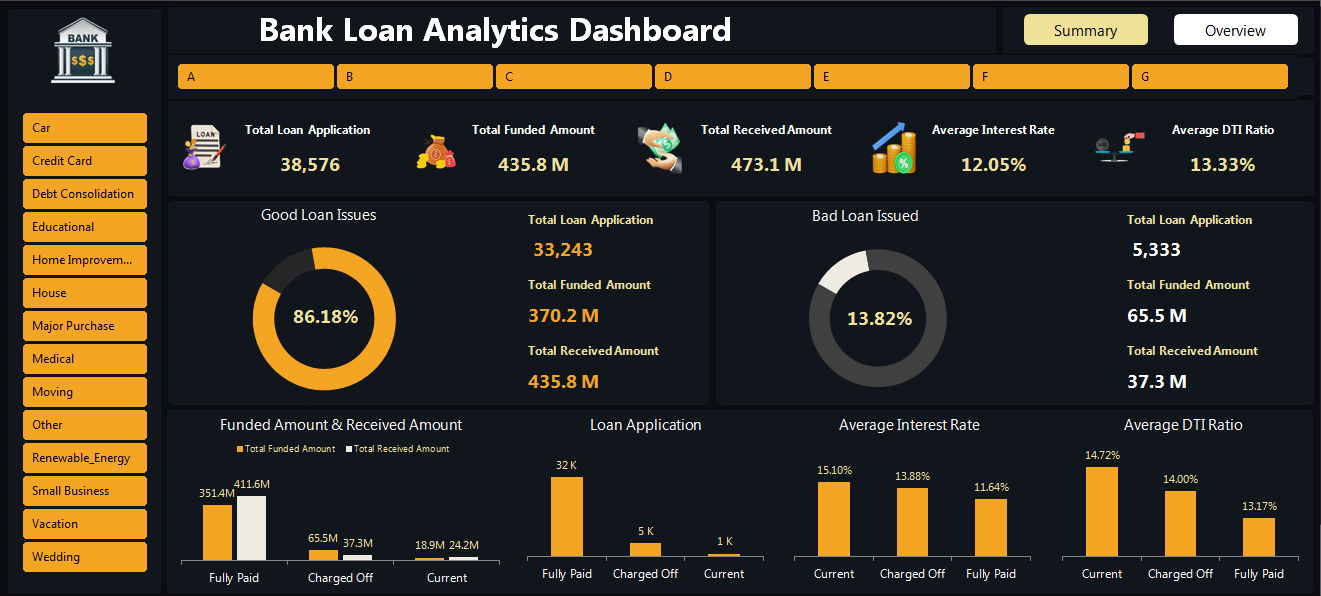

The page's visual inventory and layout, read from the dashboard file:
{"tool":"powerbi","page":{"name":"Summary","canvas":[3300,1800],"ordinal":0},"visuals":[{"type":"cardVisual","fields":{"Data":["Financial Loan Data.Total Loan Application","Financial Loan Data.Total Funded Amount","Financial Loan Data.Total Amount Received","Financial Loan Data.Avg Int Rate","Financial Loan Data.Avg DTI Ratio"]},"box":[433.4,282.3,2847.2,282.3],"z":0},{"type":"clusteredColumnChart","title":"Funded Amount & Amount Received","fields":{"Category":["Financial Loan Data.LOAN_STATUS"],"Y":["Financial Loan Data.Total Funded Amount","Financial Loan Data.Total Amount Received"]},"box":[429.5,1240.7,791.3,540.8],"z":1000},{"type":"clusteredColumnChart","title":"Loan Application","fields":{"Category":["Financial Loan Data.LOAN_STATUS"],"Y":["Financial Loan Data.Total Loan Application"]},"box":[1220.8,1240.7,723.7,540.8],"z":2000},{"type":"clusteredColumnChart","title":"Average Interest Rate","fields":{"Category":["Financial Loan Data.LOAN_STATUS"],"Y":["Financial Loan Data.Avg Int Rate"]},"box":[1944.5,1240.7,699.9,540.8],"z":3000},{"type":"clusteredColumnChart","title":"Average DTI Ratio","fields":{"Category":["Financial Loan Data.LOAN_STATUS"],"Y":["Financial Loan Data.Avg DTI Ratio"]},"box":[2644.4,1240.7,632.3,540.8],"z":4000},{"type":"image","box":[39.8,11.9,330.1,234.6],"z":5000},{"type":"textbox","box":[429.5,0,2043.9,131.2],"z":6000},{"type":"advancedSlicerVisual","fields":{"Values":["Financial Loan Data.GRADE"]},"box":[429.2,153.3,2847.5,102.5],"z":7000},{"type":"advancedSlicerVisual","fields":{"Values":["Financial Loan Data.PURPOSE"]},"box":[23.9,425.5,369.8,1356],"z":8000},{"type":"pageNavigator","box":[2533,15.9,707.8,103.4],"z":9000},{"type":"actionButton","box":[23.9,282.3,369.8,99.4],"z":10000},{"type":"donutChart","title":"Good Loan Issued","fields":{"Category":["Financial Loan Data.Good vs Bad Loan"],"Y":["Financial Loan Data.Total Loan Application"]},"box":[433.7,597.7,759.3,615.1],"z":11000},{"type":"donutChart","title":"Bad Loan Issued","fields":{"Category":["Financial Loan Data.Good vs Bad Loan"],"Y":["Financial Loan Data.Total Loan Application"]},"box":[1801.2,597.7,843,615.1],"z":12000},{"type":"cardVisual","fields":{"Data":["Financial Loan Data.Good Loan %"]},"box":[676,870.9,278.4,111.3],"z":13000},{"type":"cardVisual","fields":{"Data":["Financial Loan Data.Bad Loan %"]},"box":[2083.7,870.9,278.4,111.3],"z":14000},{"type":"cardVisual","fields":{"Data":["Financial Loan Data.Total Loan Application","Financial Loan Data.Total Funded Amount","Financial Loan Data.Total Amount Received"],"Rows":["Financial Loan Data.Good vs Bad Loan"]},"box":[1193,584.5,560.7,628.3],"z":15000},{"type":"cardVisual","fields":{"Data":["Financial Loan Data.Total Loan Application","Financial Loan Data.Total Funded Amount","Financial Loan Data.Total Amount Received"],"Rows":["Financial Loan Data.Good vs Bad Loan"]},"box":[2716,584.5,560.7,628.3],"z":16000}]}

Visuals, with their boxes on the page's 3300x1800 design canvas (x1, y1, x2, y2). These are canvas units, not pixel positions in the 1321x596 screenshot, which may show the page scaled, cropped or inside an application window:
cardVisual - Financial Loan Data.Total Loan Application x Financial Loan Data.Total Funded Amount: <box>433,282,3281,565</box>
"Funded Amount & Amount Received" clusteredColumnChart: <box>430,1241,1221,1782</box>
"Loan Application" clusteredColumnChart: <box>1221,1241,1944,1782</box>
"Average Interest Rate" clusteredColumnChart: <box>1944,1241,2644,1782</box>
"Average DTI Ratio" clusteredColumnChart: <box>2644,1241,3277,1782</box>
image: <box>40,12,370,246</box>
textbox: <box>430,0,2473,131</box>
advancedSlicerVisual - Financial Loan Data.GRADE: <box>429,153,3277,256</box>
advancedSlicerVisual - Financial Loan Data.PURPOSE: <box>24,426,394,1782</box>
pageNavigator: <box>2533,16,3241,119</box>
actionButton: <box>24,282,394,382</box>
"Good Loan Issued" donutChart: <box>434,598,1193,1213</box>
"Bad Loan Issued" donutChart: <box>1801,598,2644,1213</box>
cardVisual - Financial Loan Data.Good Loan %: <box>676,871,954,982</box>
cardVisual - Financial Loan Data.Bad Loan %: <box>2084,871,2362,982</box>
cardVisual - Financial Loan Data.Total Loan Application x Financial Loan Data.Total Funded Amount: <box>1193,584,1754,1213</box>
cardVisual - Financial Loan Data.Total Loan Application x Financial Loan Data.Total Funded Amount: <box>2716,584,3277,1213</box>
